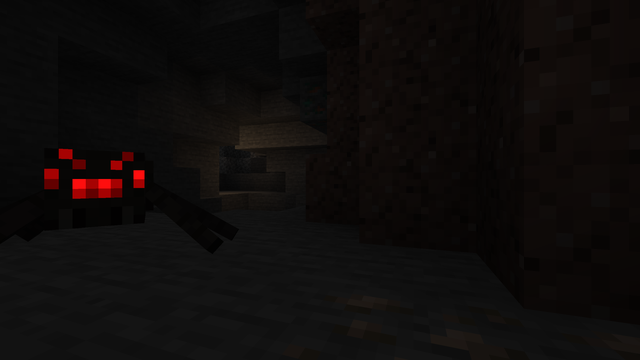araignees: (11, 127, 229, 296)
